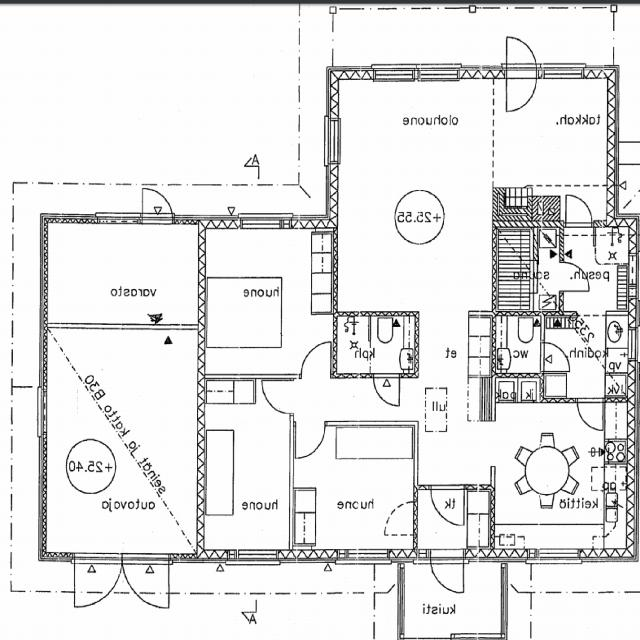door: (121, 553, 169, 616), (74, 553, 121, 616), (430, 547, 464, 600), (507, 31, 537, 80), (507, 66, 537, 115), (430, 485, 464, 528), (143, 180, 173, 222), (302, 340, 331, 378), (297, 420, 325, 458), (261, 382, 294, 414), (566, 191, 592, 228), (560, 262, 591, 292), (374, 373, 400, 408), (578, 397, 603, 431), (542, 343, 570, 371)
